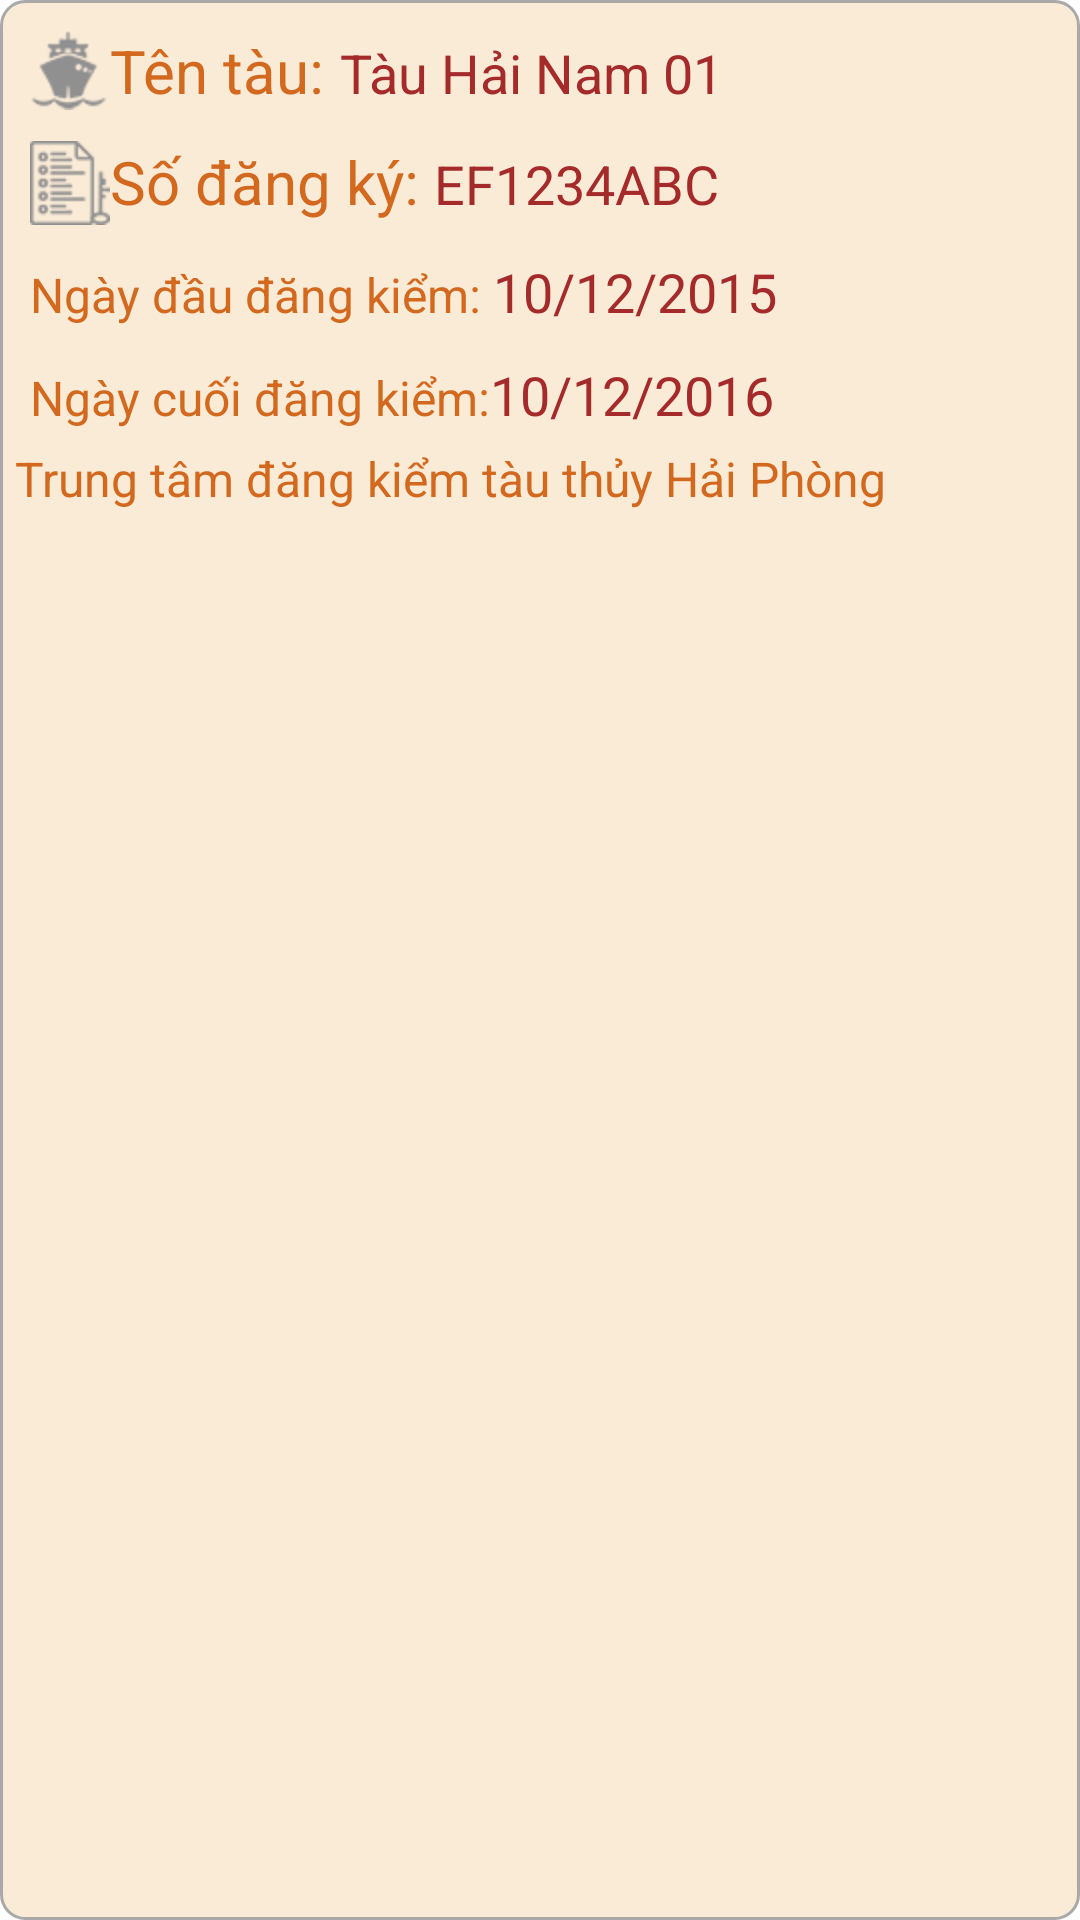

Screen size 1080×1920. Icon name, then its box in pixels as (x1, y1, x2, y2):
ship: (32, 32, 105, 110)
